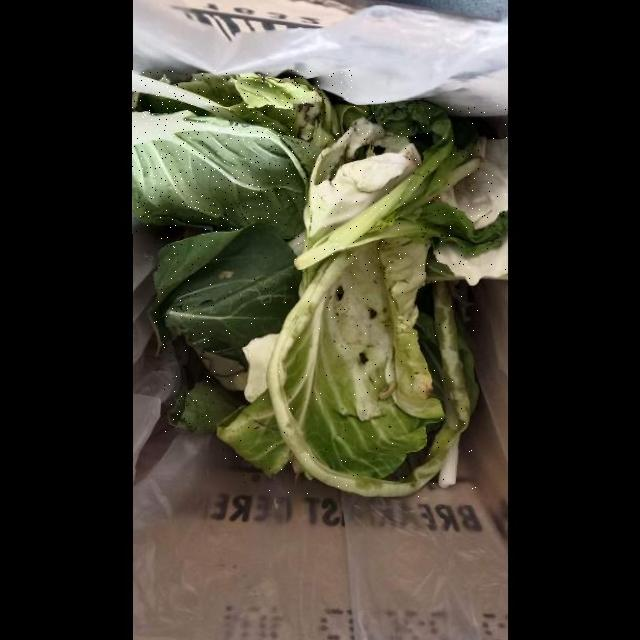biowaste: (214, 230, 479, 497), (294, 99, 507, 272), (132, 70, 355, 234), (153, 221, 302, 359), (164, 375, 245, 433)
